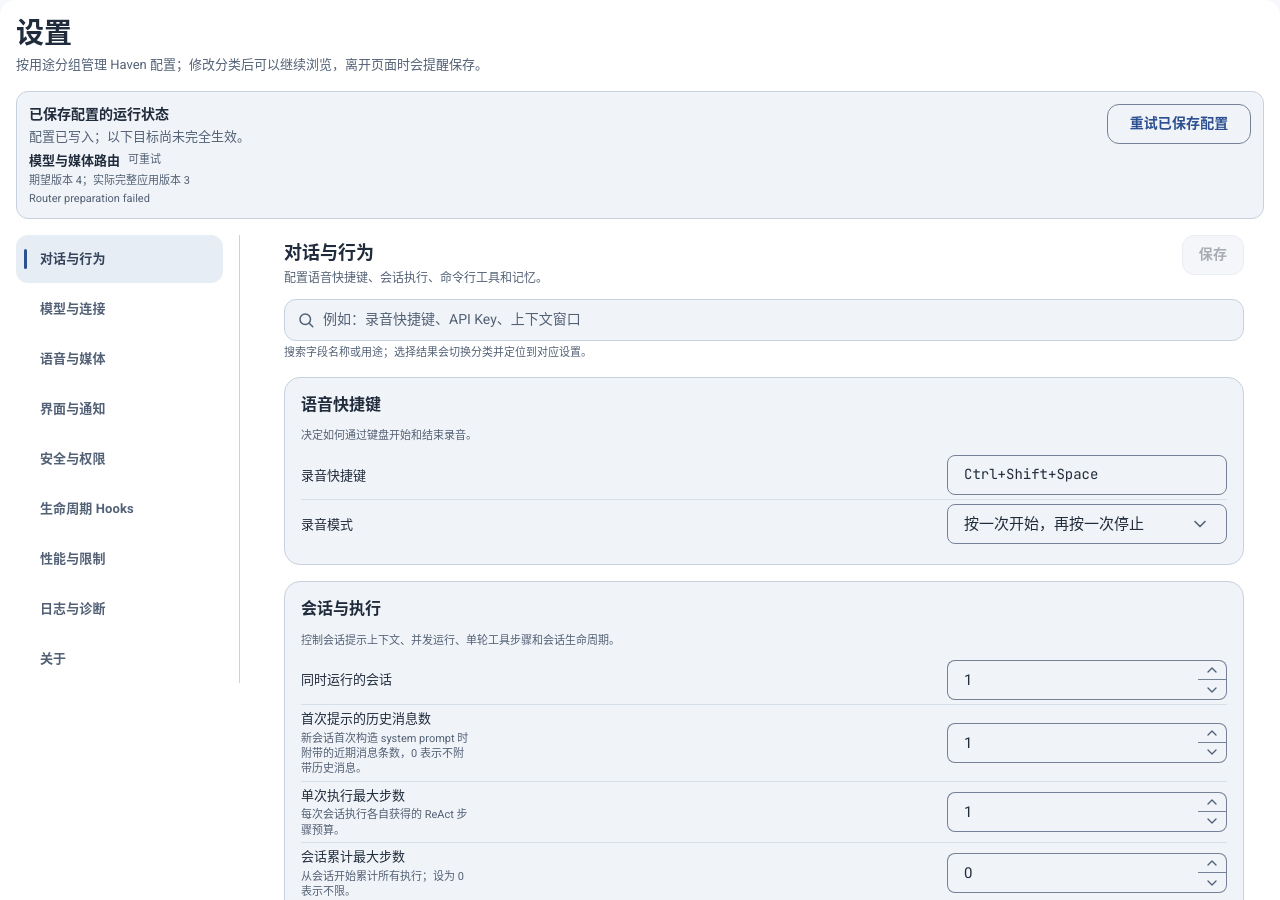
Test case: SettingsView › reapplies pending runtime targets from the saved configuration
The width and height of the screenshot is (1280, 900).
Click the button "重试已保存配置". click: (1179, 124)
box: [1107, 104, 1251, 144]
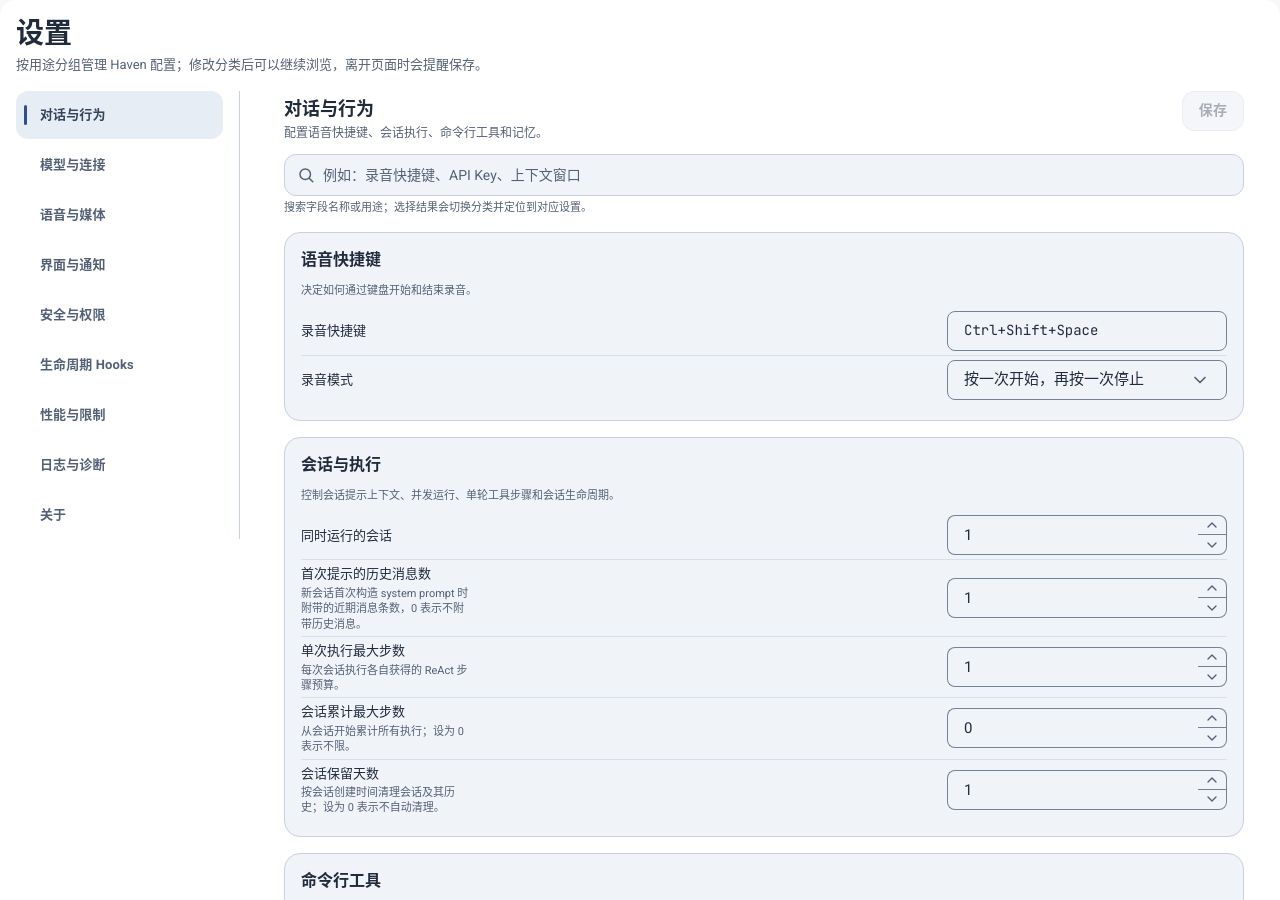
expect the text "模型与媒体路由" is gone: met
